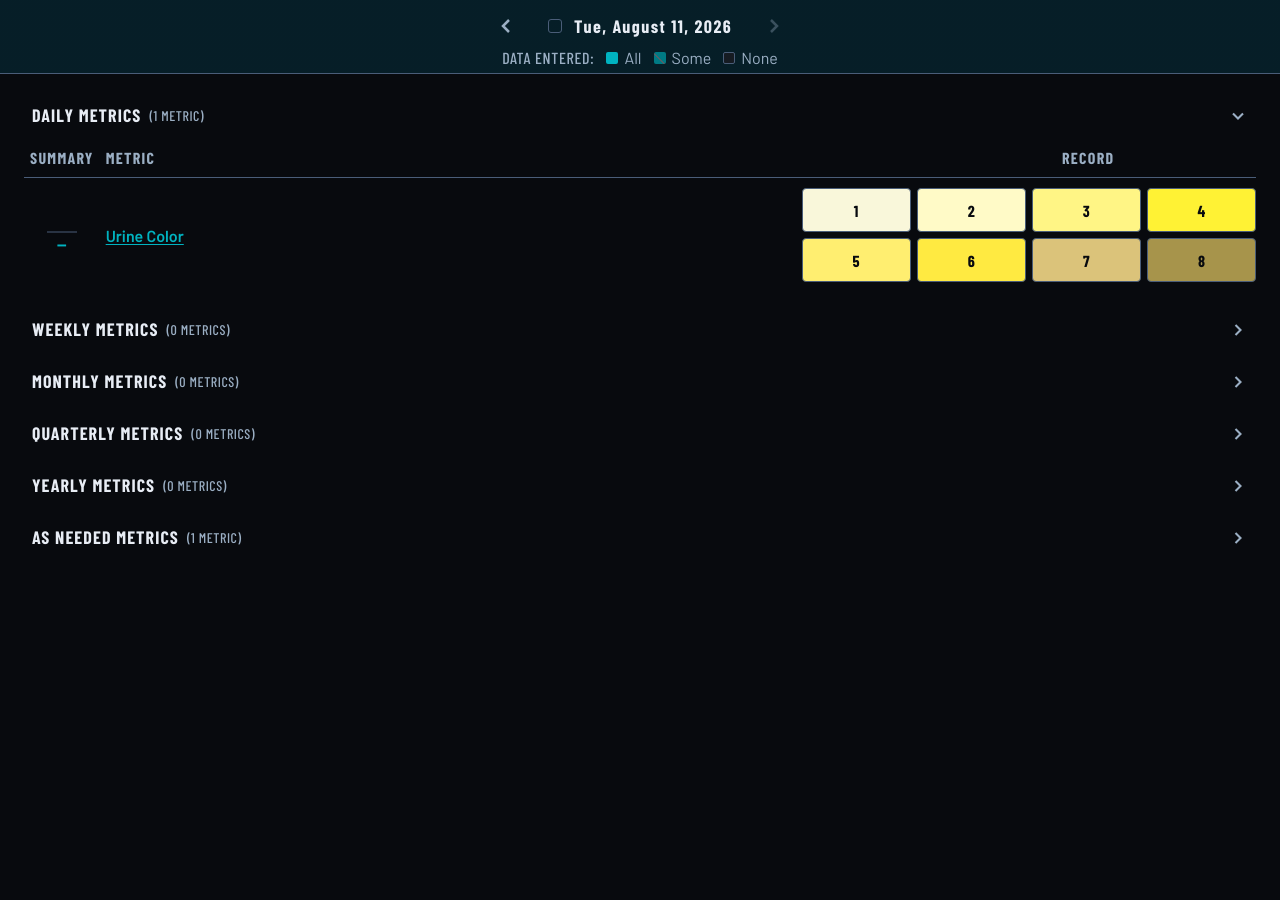
Test: MetricsDataEntryLog - health customs respect tracked-IDs filter › renders a custom whose id IS in trackedHealthMetrics
Click the button "As Needed Metrics (1 metric)" at [105, 537], box [24,516,1256,560]
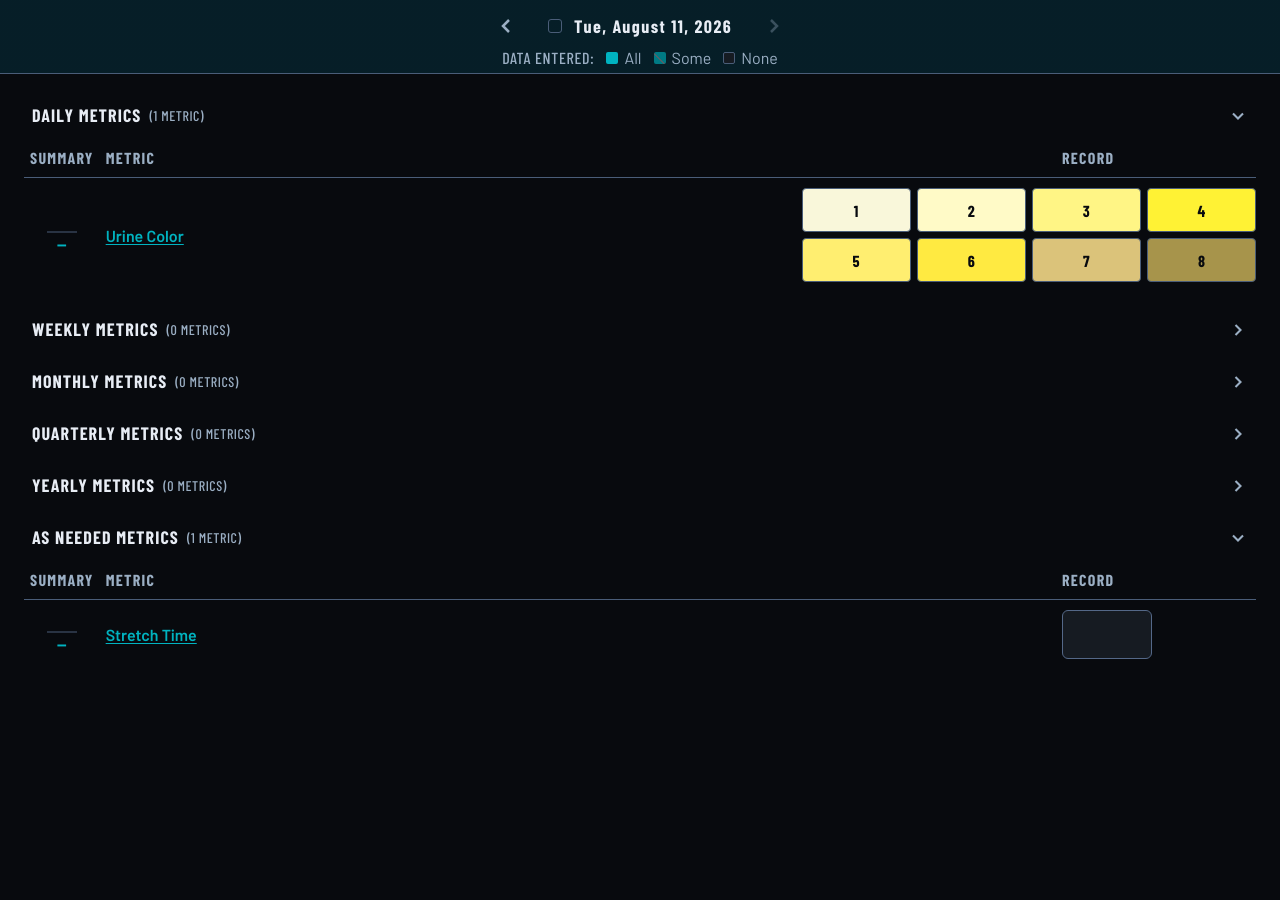
Now the link "Stretch Time" is shown, box [106,625,197,649]
